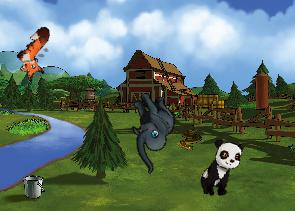elephant: (108, 85, 194, 174)
fox: (7, 23, 67, 85)
panda: (196, 135, 246, 202)
